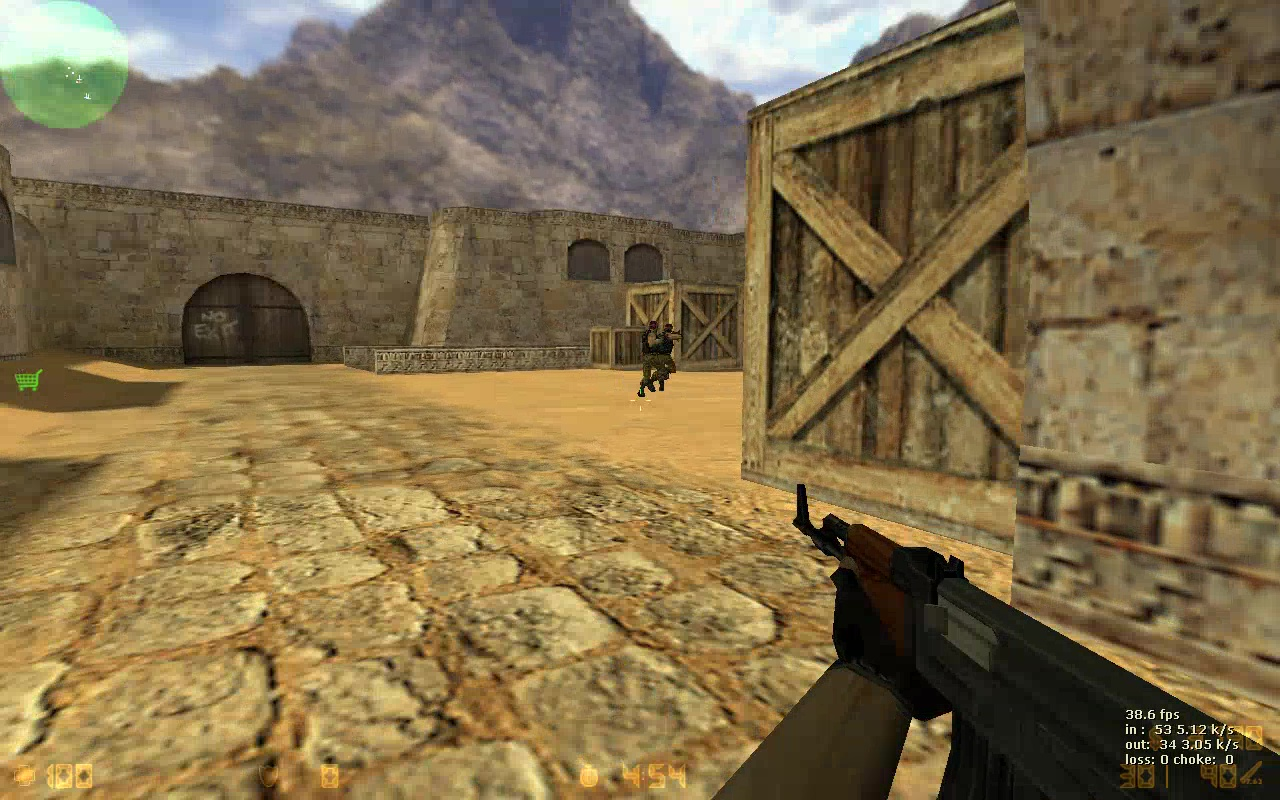terr1: (634, 321, 665, 395), (653, 322, 680, 390)
